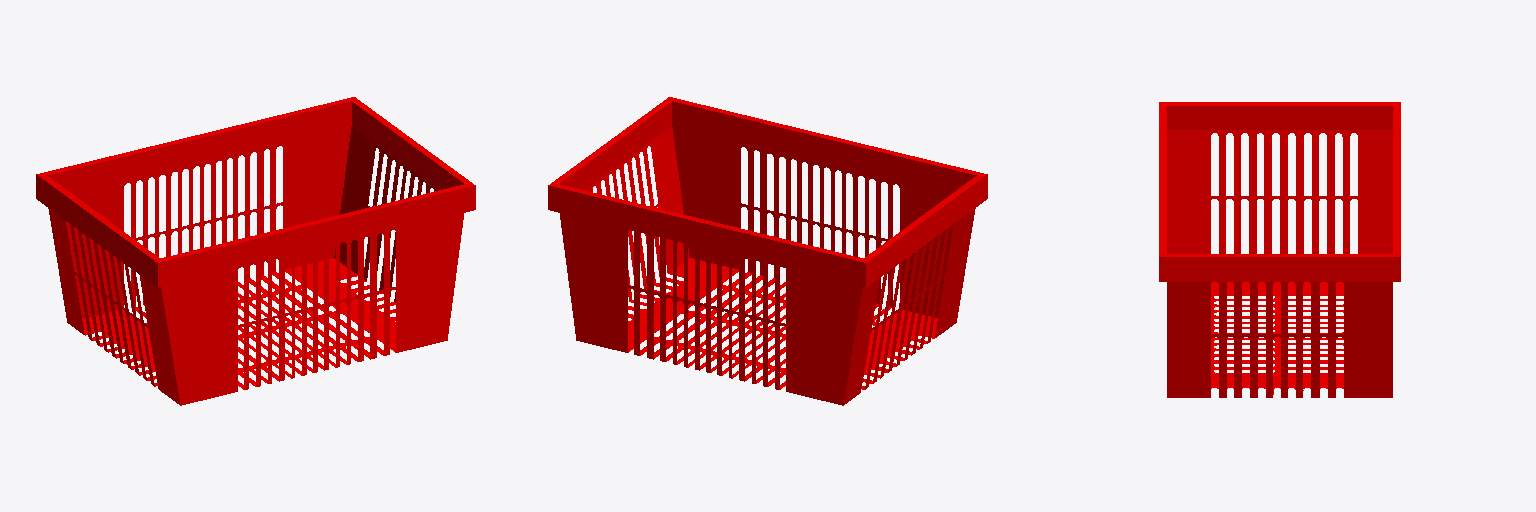
File: basket.obj
The picture shows the model from 3 angles: view 1: azimuth 30°, elevation 25°; view 2: azimuth 150°, elevation 25°; view 3: azimuth 270°, elevation 25°; orthographic projection.
Bounding box in the file's own units: 1.56 × 0.7153 × 1.03.